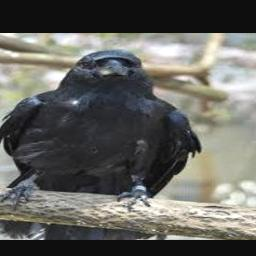Crow: (0, 49, 202, 211)
